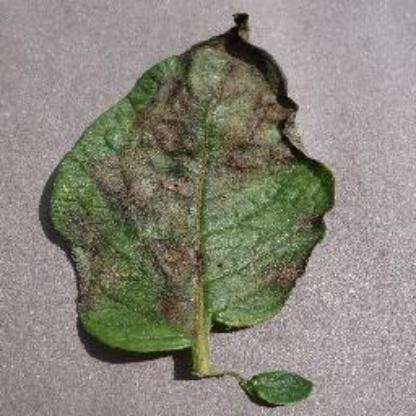Late-Blight: (48, 20, 338, 370)
